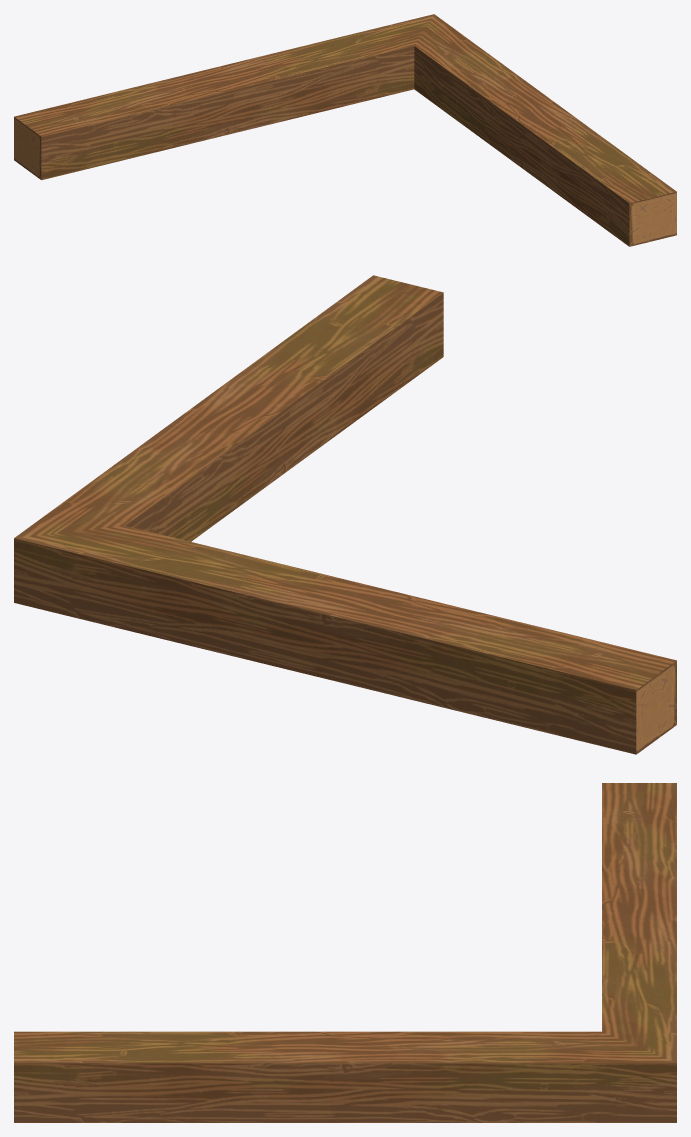
Rendered from HoleCover_90Angle.glb.
The picture shows the model from 3 angles, top to bottom: view 1: azimuth 30°, elevation 25°; view 2: azimuth 150°, elevation 25°; view 3: azimuth 270°, elevation 25°; orthographic projection. The views are drawn at different scales.
Visible parts, largest first — view 1: HoleCover_90Angle; view 2: HoleCover_90Angle; view 3: HoleCover_90Angle.
Boxes of the visible parts, x1=… form: HoleCover_90Angle: x1=14, y1=14, x2=676, y2=246; HoleCover_90Angle: x1=14, y1=275, x2=676, y2=754; HoleCover_90Angle: x1=14, y1=783, x2=676, y2=1122.
Size of the model in its own units: 2.12 by 0.2101 by 2.12.
1 material, 1 textured.
